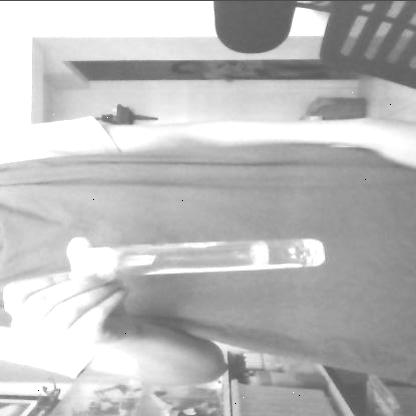Plastic Bottle: (61, 225, 340, 290)
